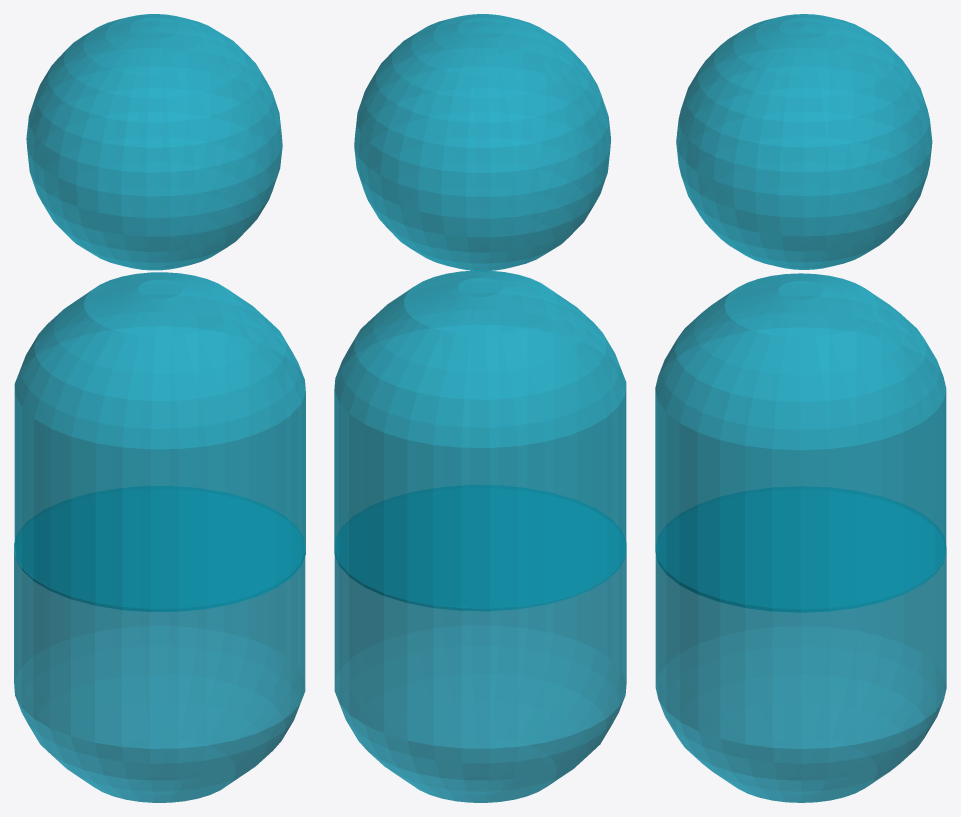
File: Info.dae
The picture shows the model from 3 angles, left to right: view 1: azimuth 30°, elevation 25°; view 2: azimuth 150°, elevation 25°; view 3: azimuth 270°, elevation 25°; orthographic projection.
Parts seen in each view (by area): view 1: Cylinder, Cylinder_001, Sphere; view 2: Cylinder, Cylinder_001, Sphere; view 3: Cylinder, Cylinder_001, Sphere.
Boxes of the visible parts, bbox=[...] form: Cylinder: bbox=[14, 272, 305, 611]; Cylinder_001: bbox=[14, 486, 305, 802]; Sphere: bbox=[26, 14, 282, 270]; Cylinder: bbox=[334, 270, 626, 610]; Cylinder_001: bbox=[334, 485, 626, 802]; Sphere: bbox=[354, 14, 610, 271]; Cylinder: bbox=[655, 273, 946, 612]; Cylinder_001: bbox=[655, 487, 946, 802]; Sphere: bbox=[676, 14, 932, 269].
Bounding box in the file's own units: 2 × 2 × 5.75.
